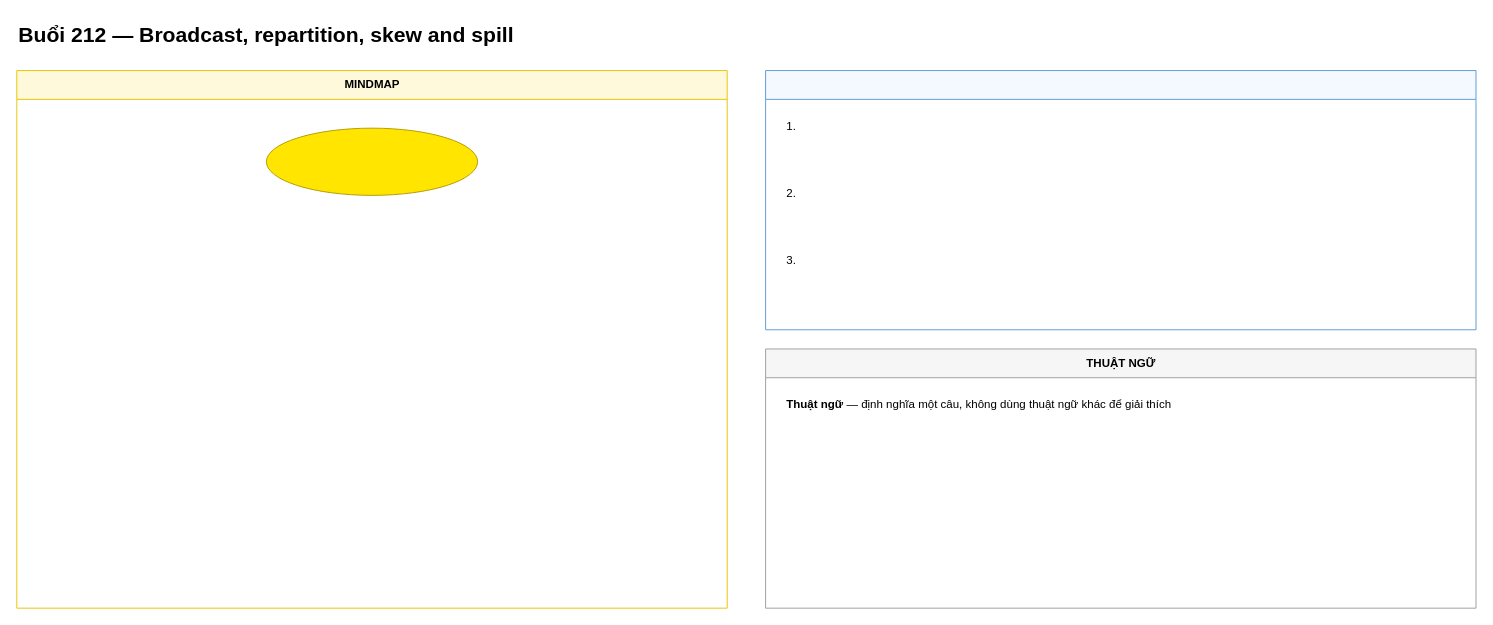
Image size: 1493x625. Some labels were removed from this diagram. The box of each missing label's shape, as (x1, y1, x2, y2) in pixels:
Broadcast, repartition, skew and spill: (265, 127, 478, 195)
KEY TAKEAWAY — ba điều phải nhớ: (765, 70, 1476, 330)
